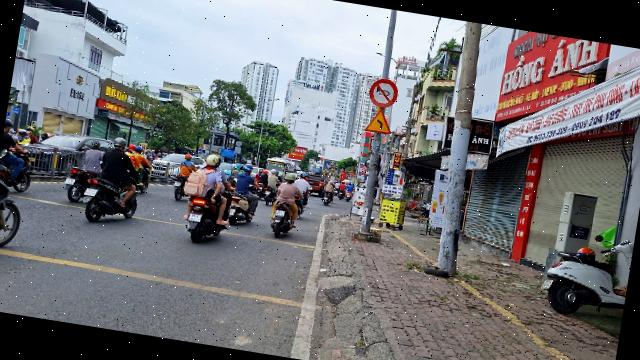cam-bop-coi: (367, 76, 401, 110)
cho-ngoat-nguy-hiem-ben-trai: (364, 106, 395, 135)
